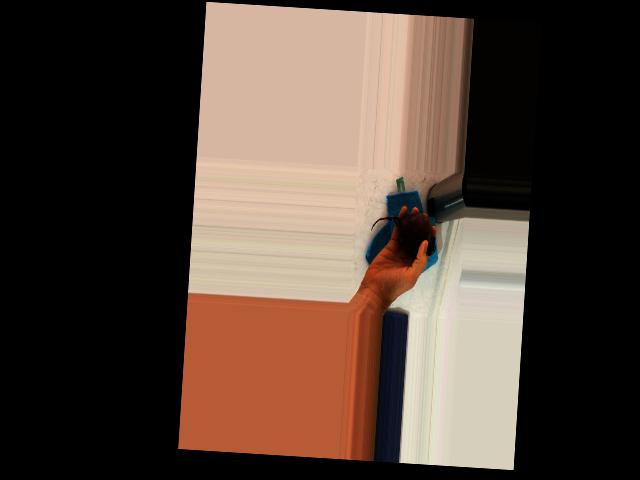beet: (369, 209, 437, 260)
